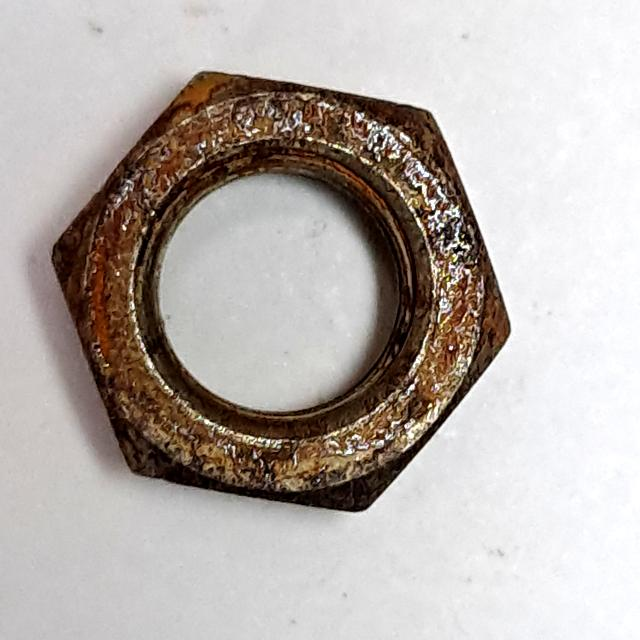Rust: (42, 58, 525, 527)
